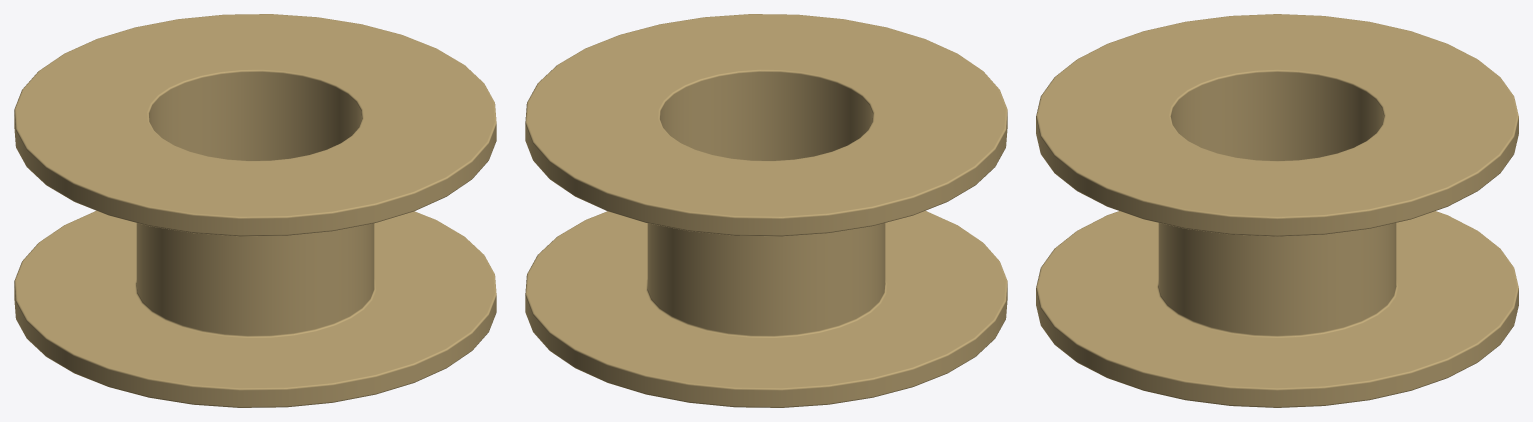
The model's file is WoodenSpool2.fbx.
3 views of the same model, side by side, from view 1: azimuth 30°, elevation 25°; view 2: azimuth 150°, elevation 25°; view 3: azimuth 270°, elevation 25° (orthographic).
Visible parts, largest first — view 1: WireSpool1.002; view 2: WireSpool1.002; view 3: WireSpool1.002.
Boxes of the visible parts, x1,y1,x2,y2 form: WireSpool1.002: [14, 14, 496, 407]; WireSpool1.002: [525, 14, 1007, 407]; WireSpool1.002: [1036, 14, 1518, 407].
Bounding box in the file's own units: 673 × 293 × 673.
